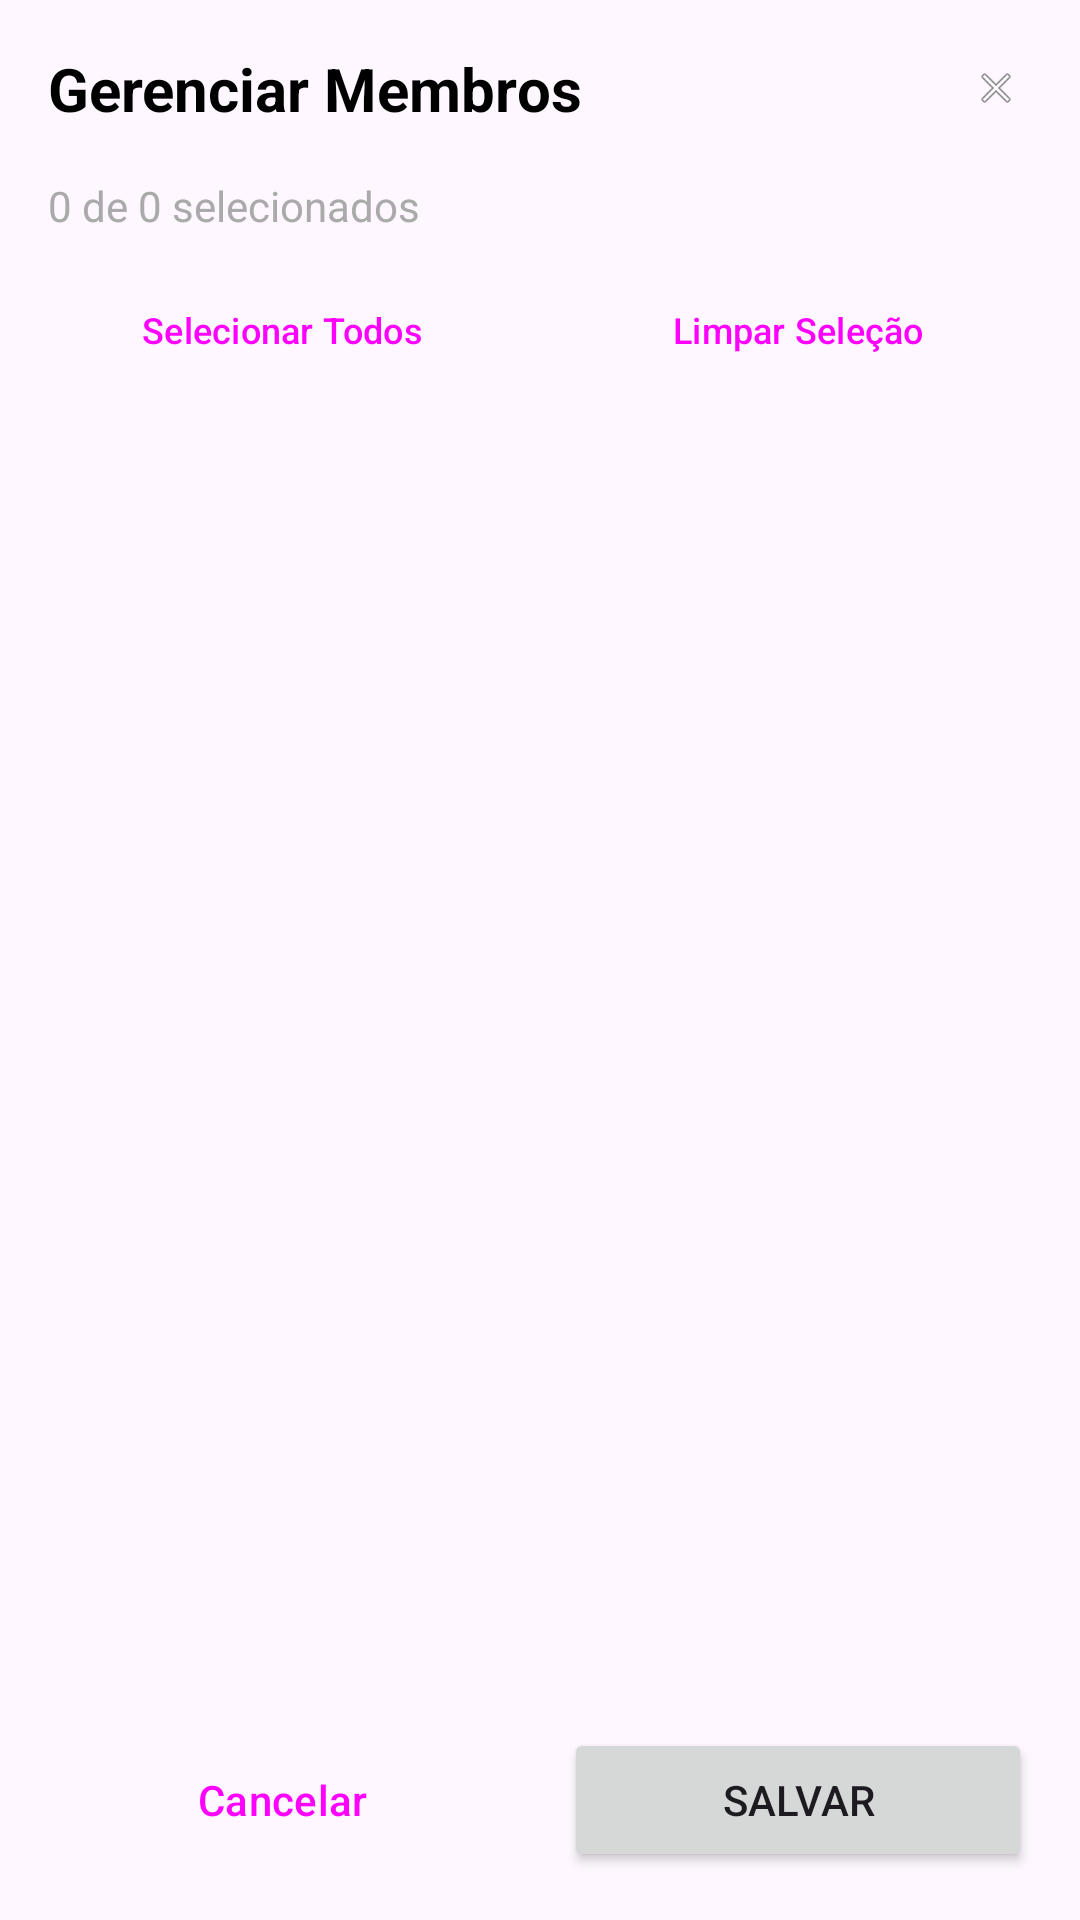

Named icons in this screenshot (1080 × 1920) and their bounding boxes, {"left": x1, "top": y1, "right": x2, "bottom": y2}:
close clear cancel: {"left": 981, "top": 73, "right": 1011, "bottom": 103}
